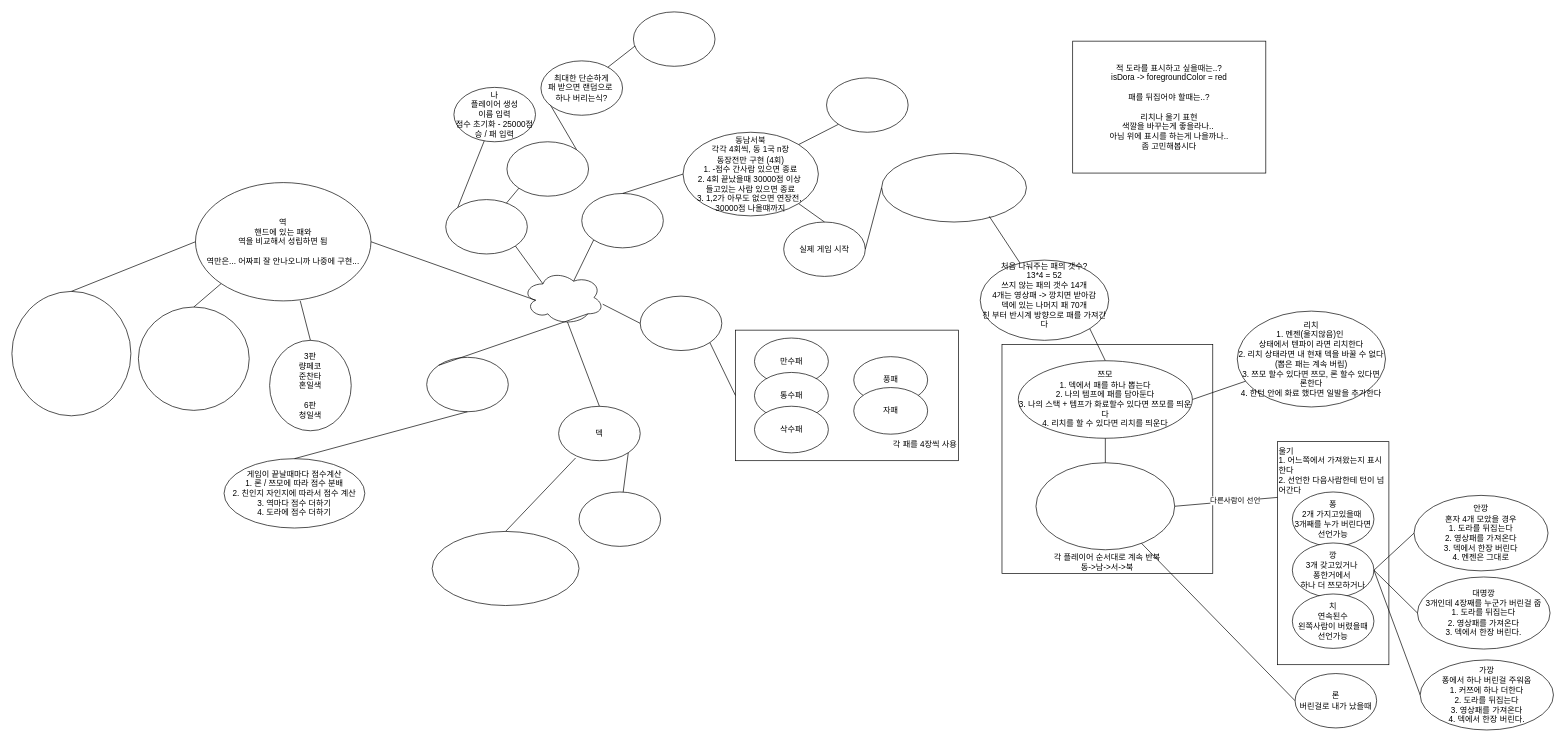
Image size: 1565x742. Some labels were removed from this diagram. Each missing label, with the centre of its shape:
(수패 108개, 자패 28개) 136개 패를 랜덤으로 셔플 내 스택에는 13개만 있음 1개 슬롯은 임시 (temp): the point at 953,187
1판 멘젠 쯔모, 리치, 핑후, 일발, 이페코, 탕야오, 영상개화, 해저로월, 하저로어 삼원패, 자풍패, 장풍패 도라: the point at 71,353
2판 더블리치, 삼색동순, 삼색동각, 찬타, 일기통관, 또이또이, 삼암각, 치또이츠, 혼노두 소삼원, 산깡즈: the point at 193,358
CPU 생성: the point at 547,168
게임: the point at 622,220
공용으로 쓰는 덱 1. 패산 2. 왕패 2.1 도라표시 2.2 영상패: the point at 505,568
마작 게임 만들기: the point at 563,297
시간이 남는다면 단순하게 로직을 짤수는 있을듯 무조건 울어버린다던가: the point at 674,38
일단은 돌아가면서 하는걸로 구현? 아님 내가 1국 끝날때까지 구현: the point at 867,104
점수계산: the point at 467,384
타패 1. 내 덱에 있는 패중 하나를 버린다 2. 버린 스택에 패를 둔다 3. 다른사람이 주워갈 수 있다면 줍는다: the point at 1105,506
패의 종류: the point at 681,323
플레이어 4인: the point at 486,226
플레이어마다 1. 핸드에 있는 덱 2. 버리는 덱: the point at 619,518
